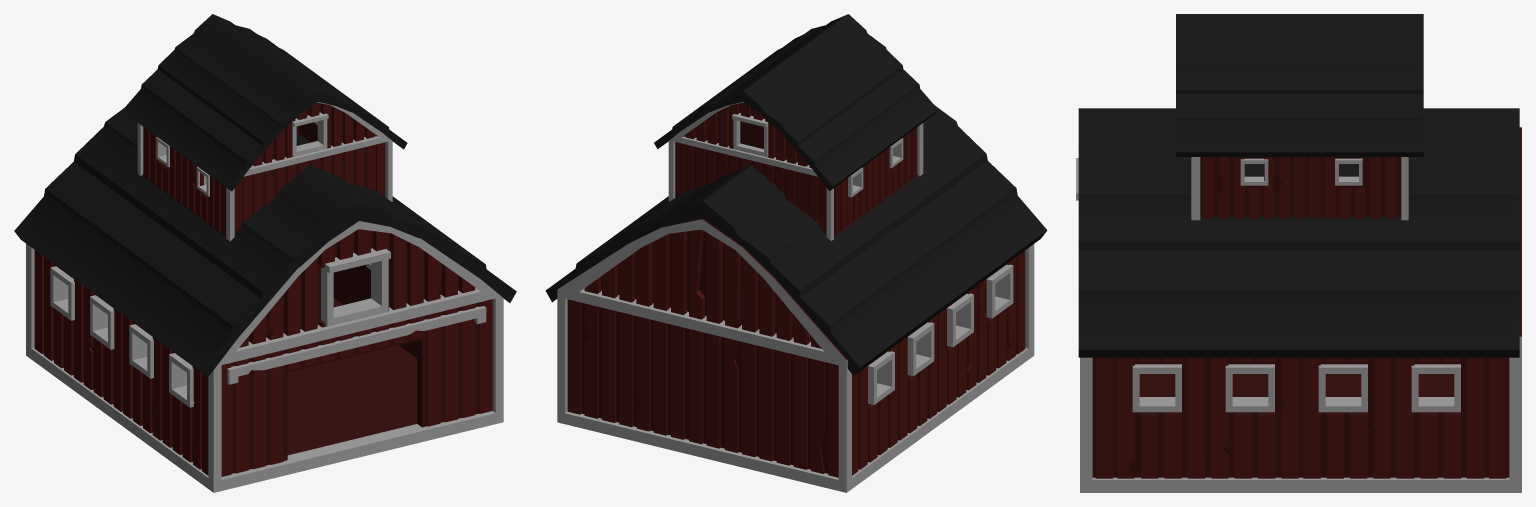
The model's file is BigBarn.FBX.
3 views of the same model, side by side, from view 1: azimuth 30°, elevation 25°; view 2: azimuth 150°, elevation 25°; view 3: azimuth 270°, elevation 25° (orthographic). The views are drawn at different scales.
Parts seen in each view (by area): view 1: BigBarn; view 2: BigBarn; view 3: BigBarn.
Part boxes in pixels (bbox=[...]): BigBarn: bbox=[14, 14, 516, 492]; BigBarn: bbox=[545, 14, 1047, 492]; BigBarn: bbox=[1076, 14, 1521, 492].
Bounding box in the file's own units: 773 × 789 × 805.
